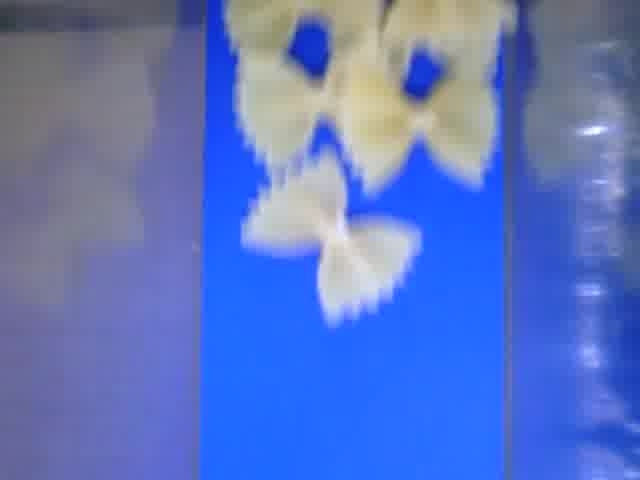farfalle: (236, 159, 422, 322), (234, 42, 391, 172), (342, 58, 495, 188)
